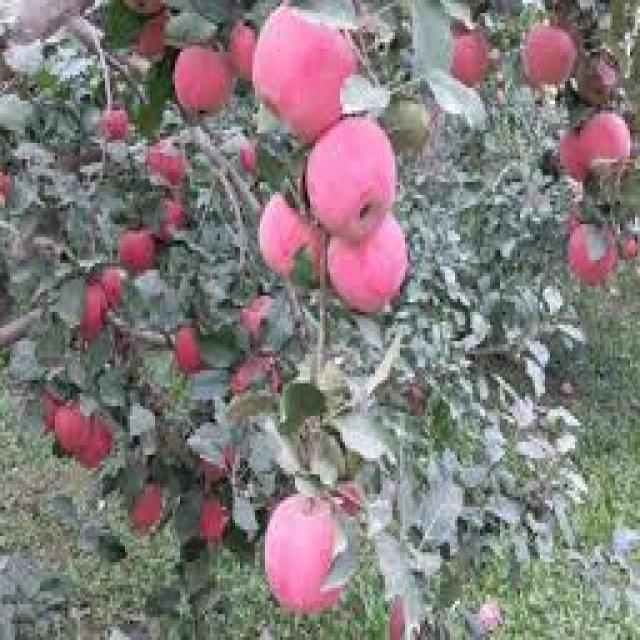Organik: (253, 16, 349, 130), (296, 111, 382, 232), (261, 488, 345, 600), (336, 217, 418, 306), (30, 382, 115, 458), (256, 180, 314, 283), (573, 101, 628, 180), (525, 20, 584, 90), (72, 261, 124, 330), (174, 40, 214, 118), (157, 143, 192, 232), (574, 212, 614, 284), (128, 464, 166, 536), (450, 26, 496, 85), (193, 479, 222, 539), (117, 218, 152, 262), (109, 100, 129, 146)
